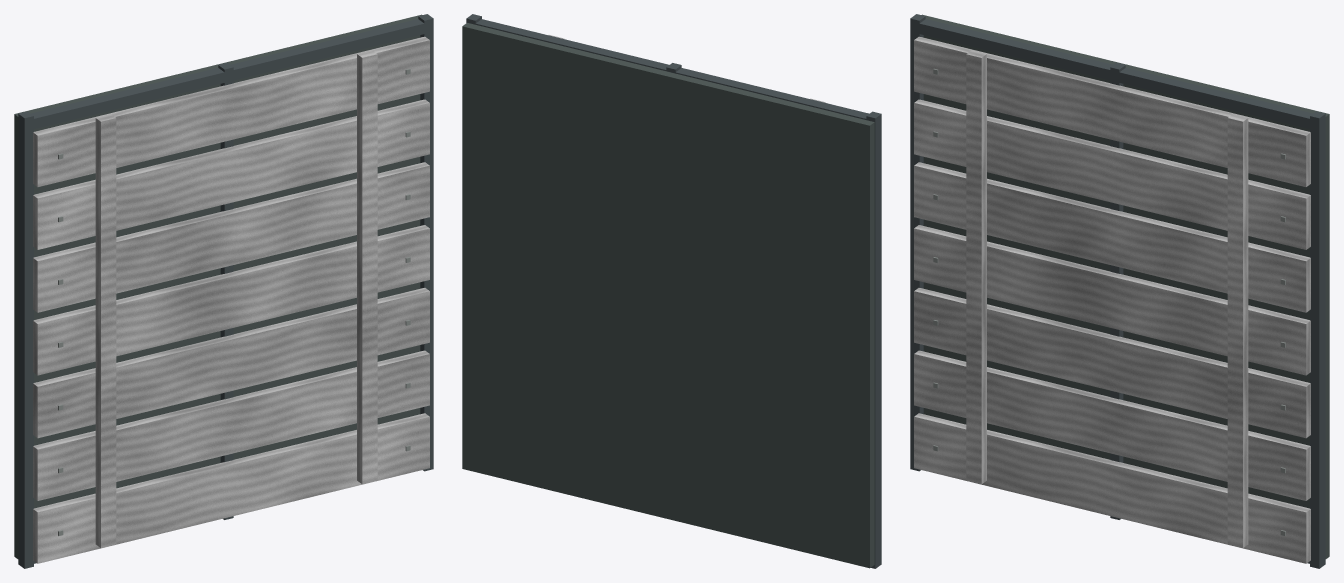
File: boarded_window.glb
The picture shows the model from 3 angles, left to right: view 1: azimuth 30°, elevation 25°; view 2: azimuth 150°, elevation 25°; view 3: azimuth 330°, elevation 25°; orthographic projection.
Parts seen in each view (by area): view 1: boarded_window_Wood, boarded_window_WoodLight, boarded_window_Ink, boarded_window_Steel; view 2: boarded_window_Ink, boarded_window_Steel; view 3: boarded_window_Wood, boarded_window_WoodLight, boarded_window_Ink, boarded_window_Steel.
Boxes of the visible parts, x1,y1,x2,y2 form: boarded_window_Wood: [33, 50, 429, 547]; boarded_window_WoodLight: [33, 36, 429, 563]; boarded_window_Ink: [14, 14, 422, 558]; boarded_window_Steel: [18, 14, 433, 568]; boarded_window_Ink: [462, 23, 874, 568]; boarded_window_Steel: [466, 14, 881, 568]; boarded_window_Wood: [914, 50, 1310, 547]; boarded_window_WoodLight: [914, 36, 1310, 563]; boarded_window_Ink: [921, 14, 1329, 558]; boarded_window_Steel: [910, 14, 1325, 568].
Bounding box in the file's own units: 2.66 × 2.8 × 0.24.
Materials: 5 (2 with a texture image).
